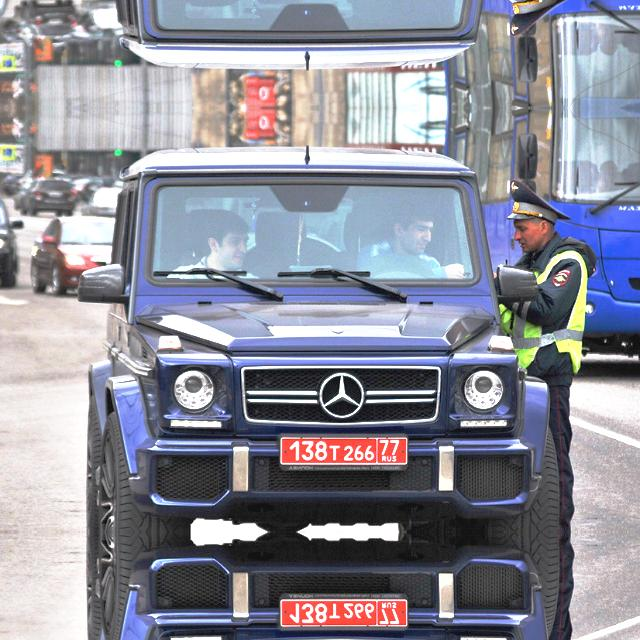diplomatic: (272, 433, 414, 473), (272, 590, 414, 630)
